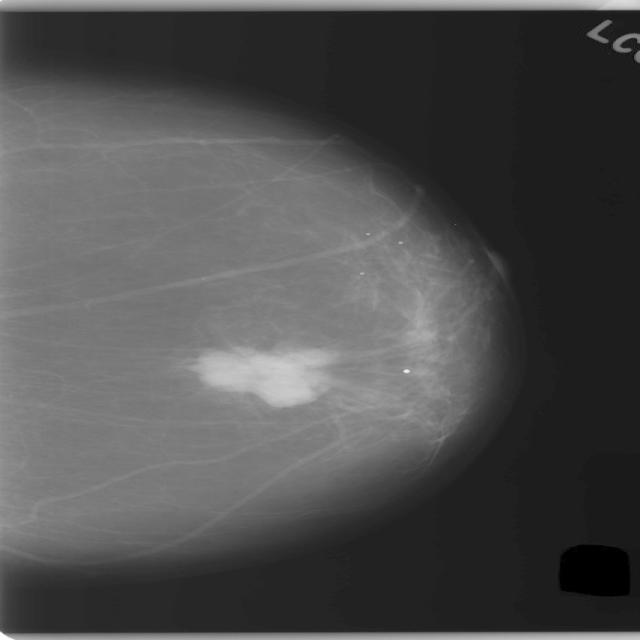tumour: (193, 342, 334, 407)
